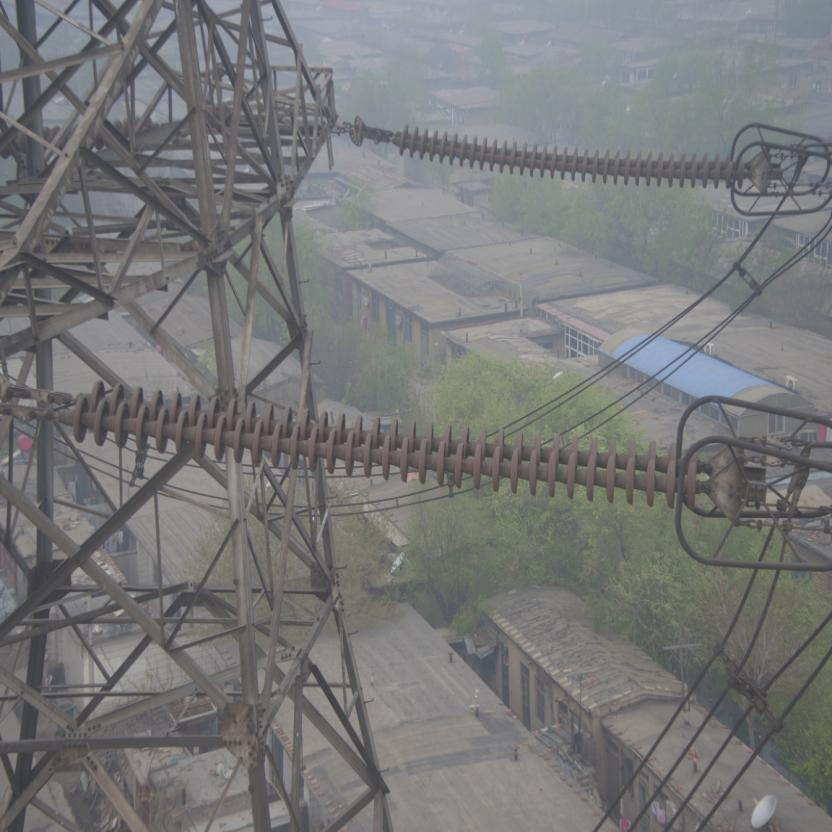insulator: (30, 374, 728, 516), (380, 118, 756, 192)
